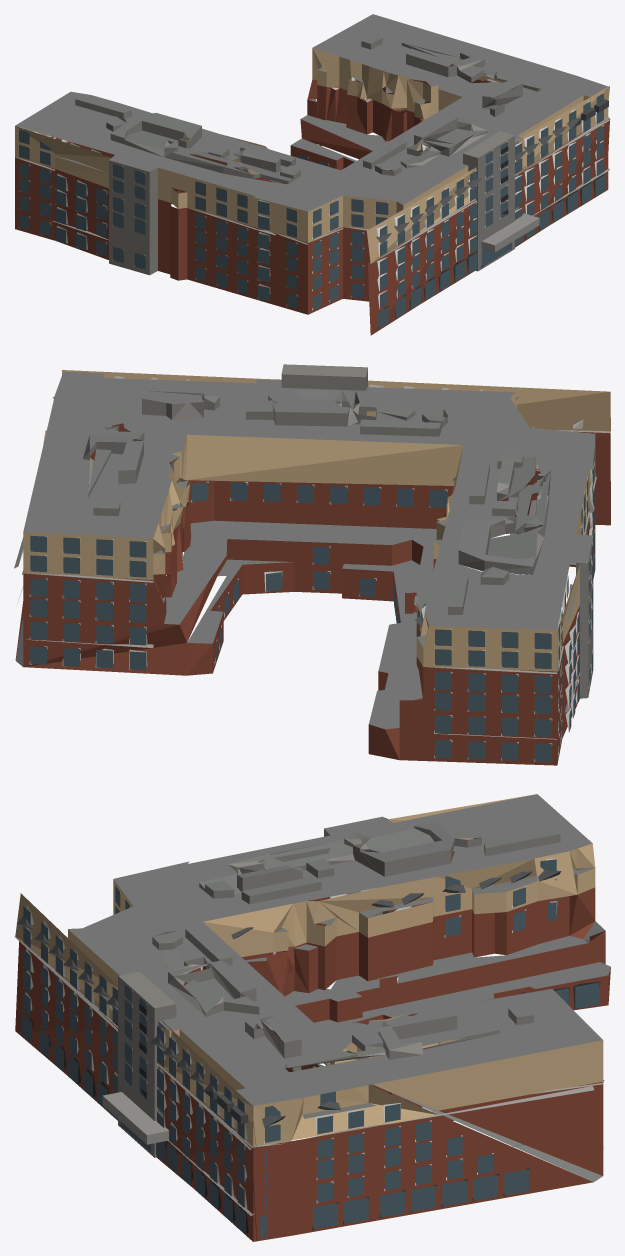
The model's file is de-makroon.lod1.glb.
3 renders of one model, top to bottom at view 1: azimuth 30°, elevation 25°; view 2: azimuth 150°, elevation 25°; view 3: azimuth 270°, elevation 25°, orthographic. The views are drawn at different scales.
Parts seen in each view (by area): view 1: de-makroon; view 2: de-makroon; view 3: de-makroon.
Part boxes in pixels (<box>): de-makroon: <box>15,14,610,335</box>; de-makroon: <box>14,364,610,765</box>; de-makroon: <box>14,794,610,1241</box>.
Size of the model in its own units: 105 by 23.81 by 84.68.
